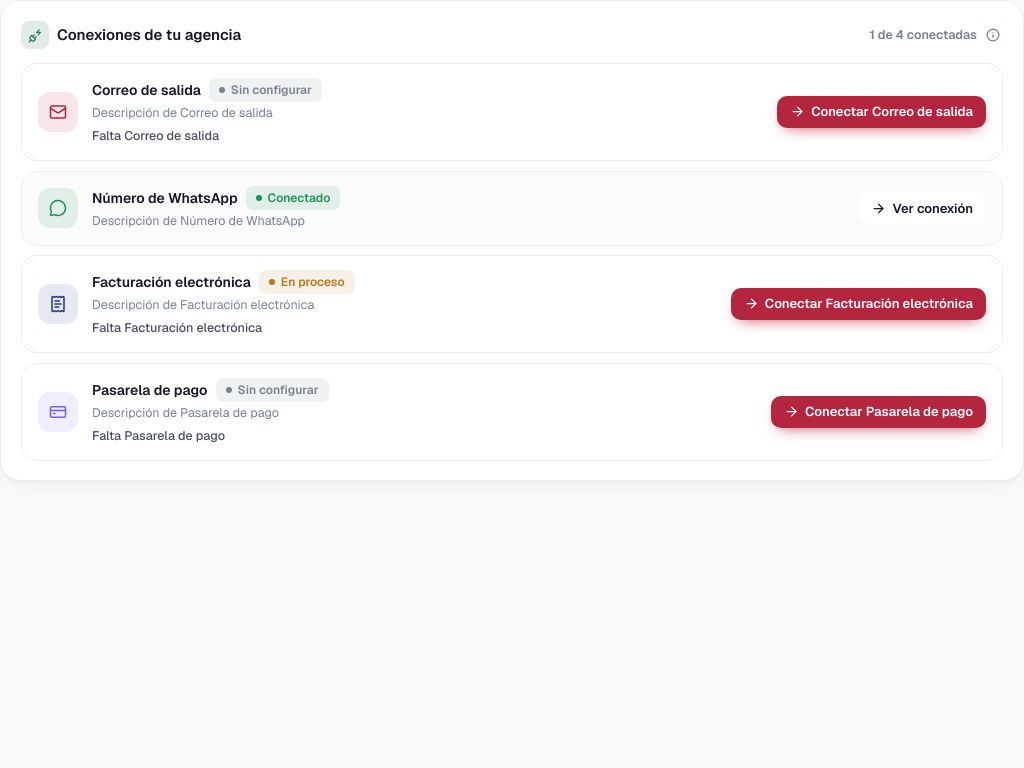
Scenario: integraciones de la agencia › en Integraciones el correo se conecta en un panel con el proveedor y la clave de aplicación
This screenshot has width=1024, height=768.
Later steps or results of the test are not shown.
Expected: the text "1 de 4 conectadas" is shown, left=870, top=25, right=1003, bottom=45
Expected: the text "Sin configurar" is shown 2 times, left=209, top=78, right=322, bottom=102; left=216, top=378, right=329, bottom=402
Click the button with test id "connect-email": [882, 112] box left=777, top=96, right=986, bottom=128
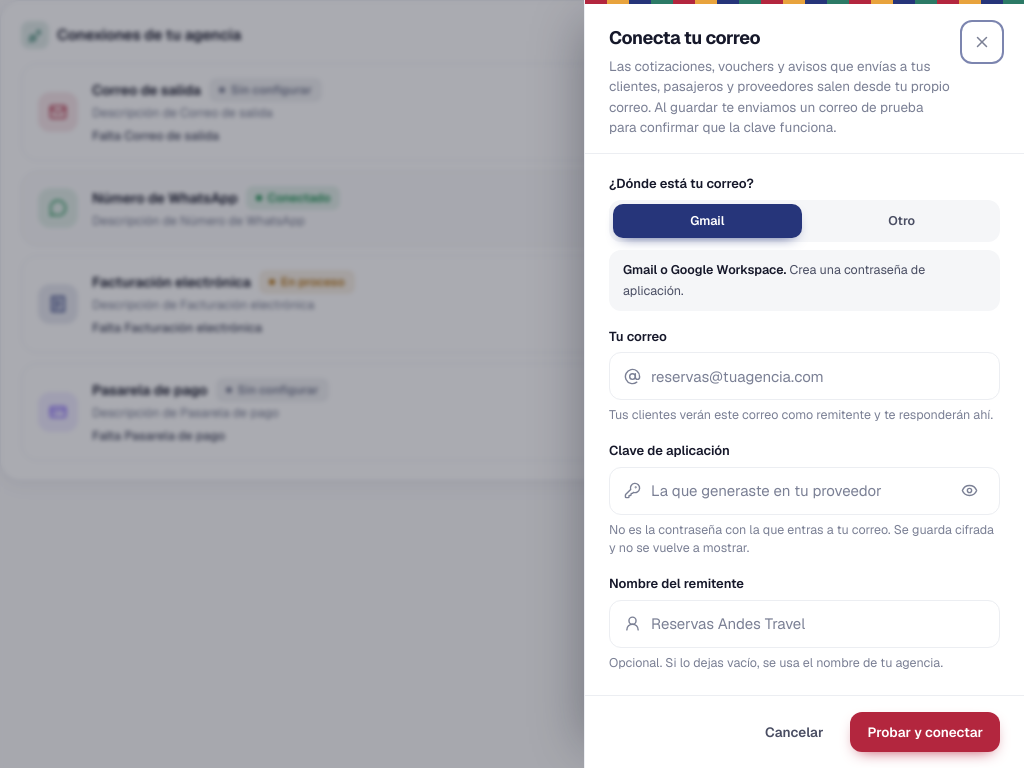
Expected: the heading "Conecta tu correo" is shown, left=609, top=26, right=760, bottom=49
Expected: the element with test id "mail-provider-help" shows "Gmail o Google Workspace", left=623, top=261, right=784, bottom=278
